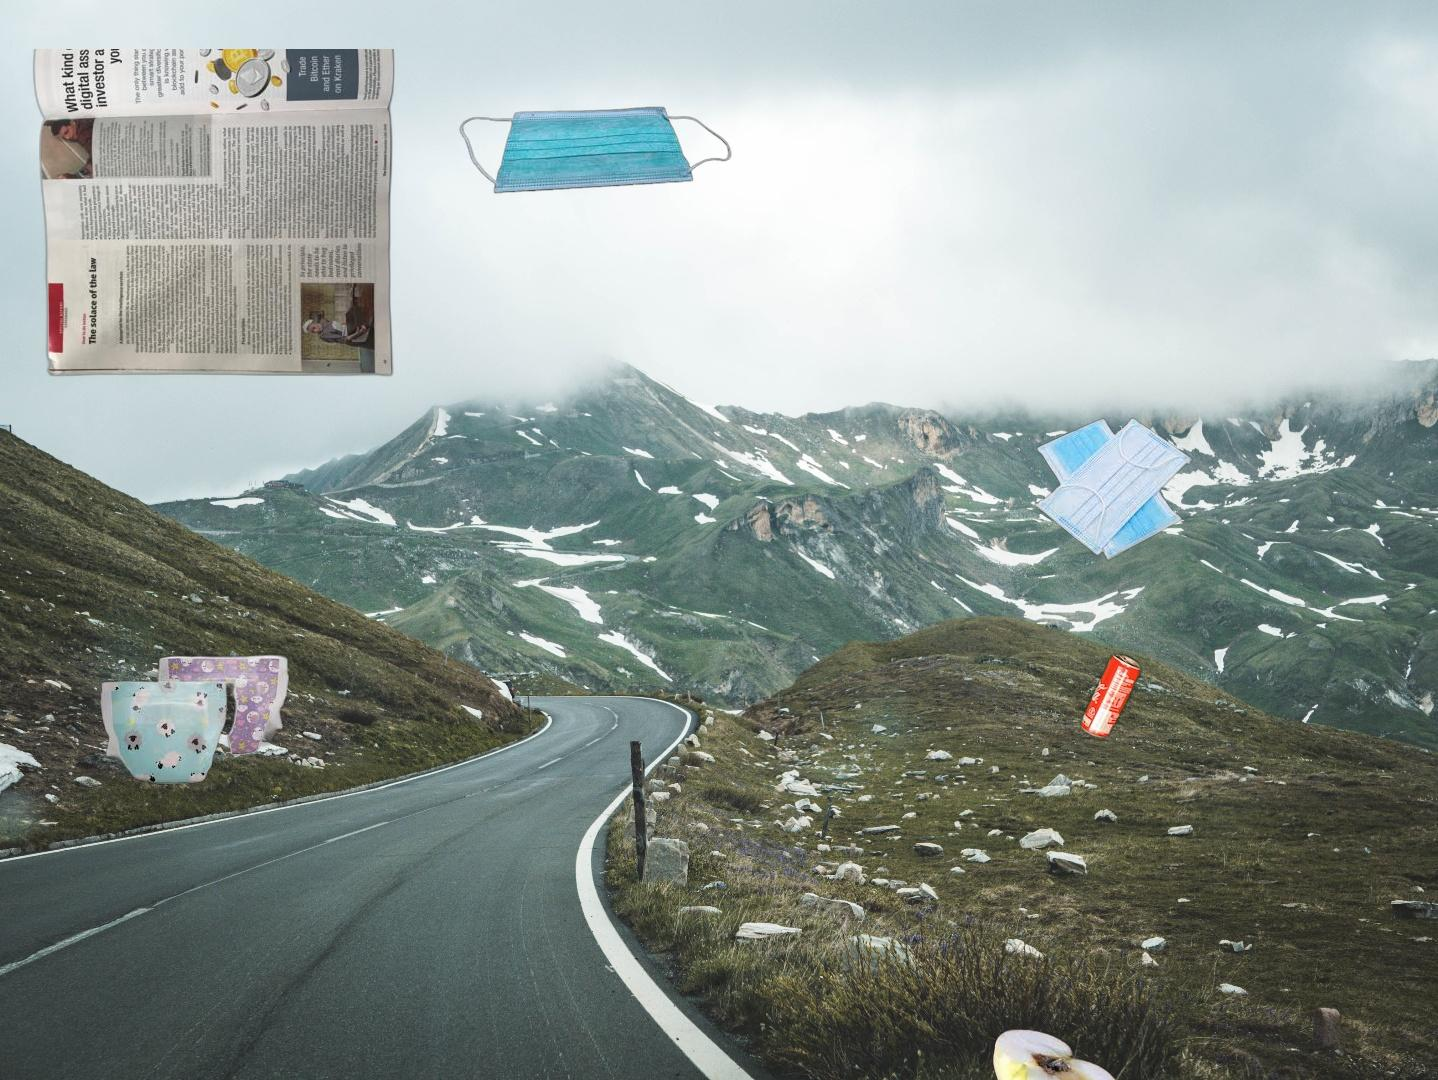biological: (942, 1026, 1121, 1080)
metal-cans: (1076, 647, 1146, 744)
paper: (30, 49, 399, 379)
trash: (97, 650, 299, 787), (457, 104, 734, 196), (1032, 415, 1195, 563)
